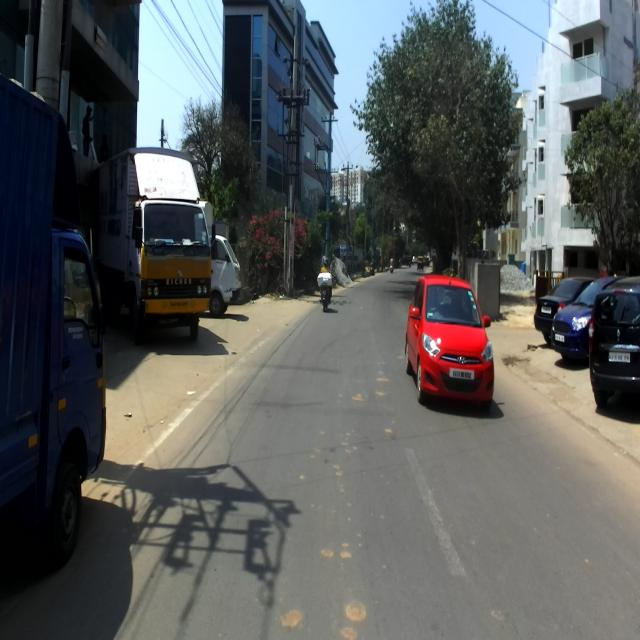car ahead at: (409, 271, 496, 419), (591, 285, 640, 402), (554, 271, 598, 355)
electric pole ahead at: (272, 0, 310, 301)
motorcycle ahead at: (315, 256, 336, 311)
truck ahead at: (2, 83, 102, 584), (103, 147, 215, 337)
